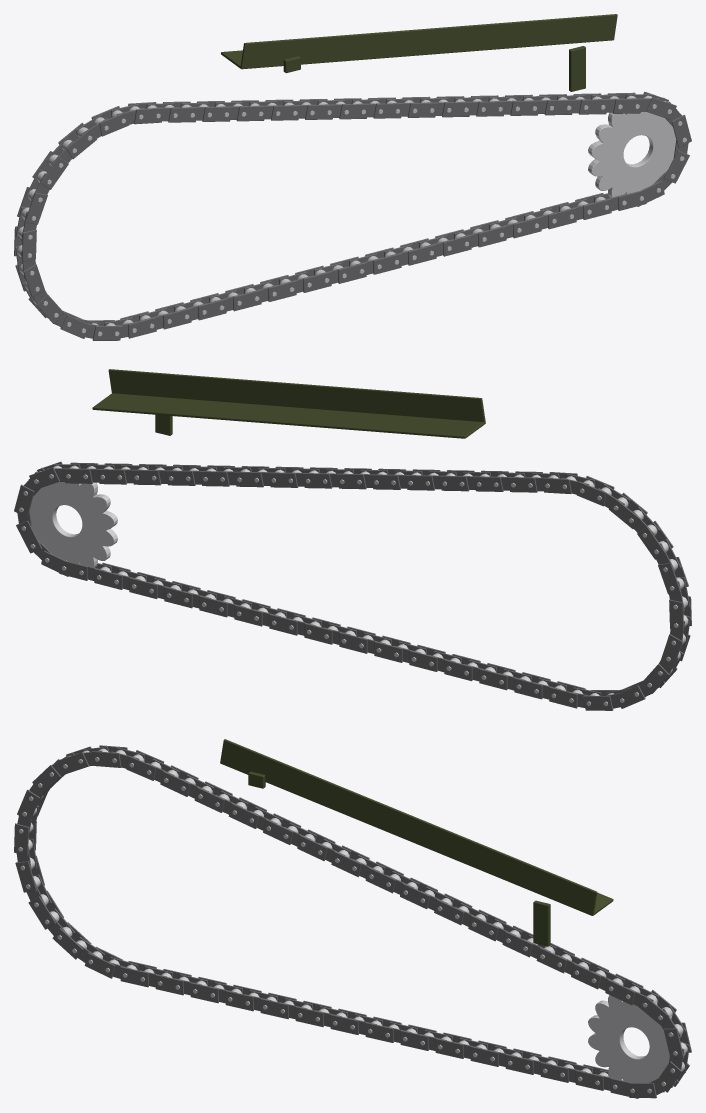
Rendered from bike_vintage_vtwin__chain.glb.
The picture shows the model from 3 angles, top to bottom: view 1: azimuth 30°, elevation 25°; view 2: azimuth 150°, elevation 25°; view 3: azimuth 330°, elevation 25°; orthographic projection.
Visible parts, largest first — view 1: transmission__chain__plates, transmission__chain_guard, transmission__front_sprocket, transmission__chain__rollers; view 2: transmission__chain__plates, transmission__chain_guard, transmission__front_sprocket, transmission__chain__rollers; view 3: transmission__chain__plates, transmission__chain_guard, transmission__chain__rollers, transmission__front_sprocket.
Boxes of the visible parts, x1=… form: transmission__chain__plates: x1=14, y1=91, x2=691, y2=340; transmission__chain_guard: x1=221, y1=14, x2=617, y2=91; transmission__front_sprocket: x1=588, y1=112, x2=676, y2=197; transmission__chain__rollers: x1=17, y1=95, x2=686, y2=336; transmission__chain__plates: x1=14, y1=461, x2=691, y2=710; transmission__chain_guard: x1=92, y1=369, x2=485, y2=438; transmission__front_sprocket: x1=29, y1=482, x2=117, y2=567; transmission__chain__rollers: x1=19, y1=465, x2=688, y2=706; transmission__chain__plates: x1=14, y1=745, x2=691, y2=1098; transmission__chain_guard: x1=220, y1=739, x2=613, y2=946; transmission__chain__rollers: x1=18, y1=748, x2=687, y2=1093; transmission__front_sprocket: x1=588, y1=995, x2=685, y2=1083.
Bounding box in the file's own units: 61.06 × 23.79 × 4.6.
